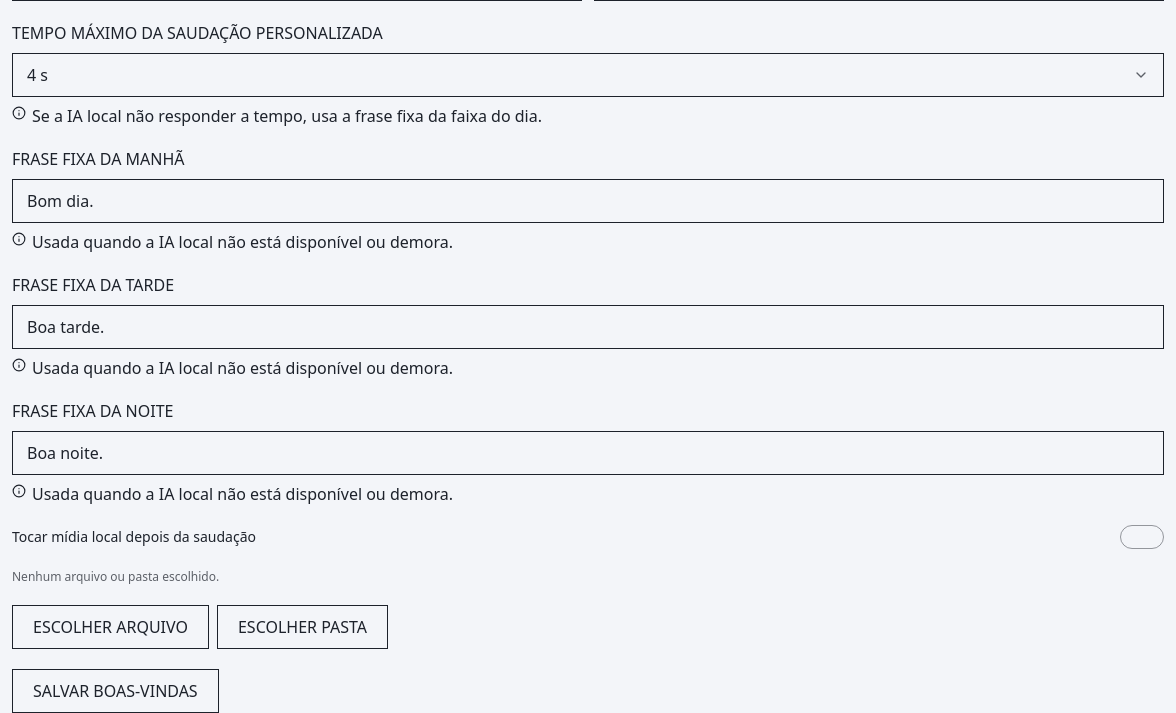
Settings do Modo Boas-Vindas › escolhe mídia por diálogo e mostra apenas o nome do arquivo
This screenshot has width=1176, height=713.
(page scrolled)
Click the button "Escolher arquivo". click: x=110, y=627
box: [12,605,209,649]
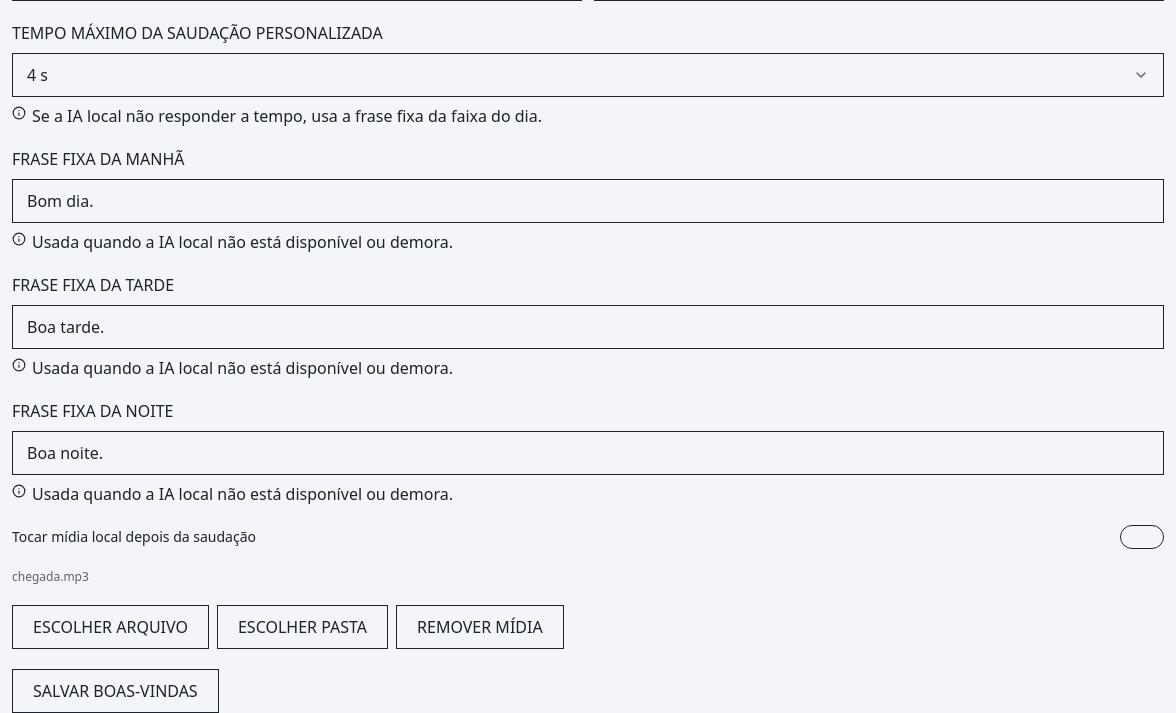
Now the text "chegada.mp3" is shown, box [12,568,89,585]
